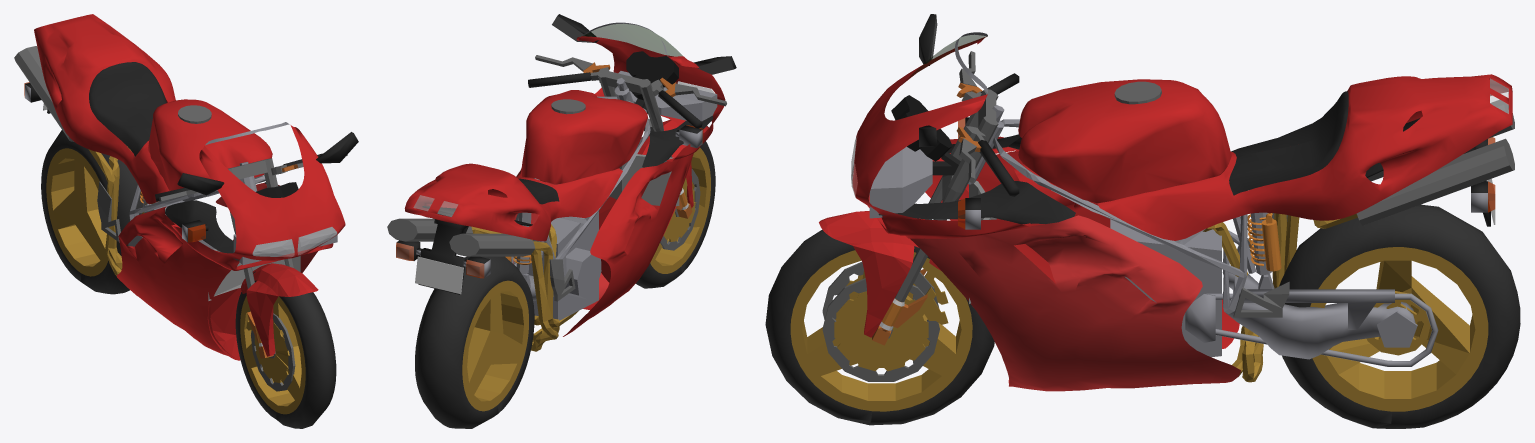
File: bike.obj
3 views of the same model, side by side, from view 1: azimuth 30°, elevation 25°; view 2: azimuth 150°, elevation 25°; view 3: azimuth 270°, elevation 25° (orthographic). The views are drawn at different scales.
Parts seen in each view (by area): view 1: carrd, carrd03, ducgb, carrd02, carrd01, duce01, ducw, ducw01, duce, carrd05, carrd04, duccro (+9 smaller); view 2: carrd, ducw01, carrd01, carrd03, duce01, ducgb, duccro, ducmo, carrd02, ducm5, ductbl, duce (+14 smaller); view 3: carrd03, carrd, carrd01, ducgb, ducw01, duce01, duce, ducw, carrd02, duccro, ducex, carrd05 (+15 smaller).
Boxes of the visible parts, box(x1,y1,x2,y2) form: carrd: box(34, 14, 175, 204); carrd03: box(116, 183, 317, 359); ducgb: box(25, 62, 358, 260); carrd02: box(171, 125, 345, 270); carrd01: box(147, 99, 272, 190); duce01: box(46, 148, 108, 276); ducw: box(235, 271, 336, 428); ducw01: box(41, 130, 143, 294); duce: box(240, 296, 305, 414); carrd05: box(241, 263, 318, 356); carrd04: box(207, 249, 300, 360); duccro: box(14, 46, 211, 141); carrd: box(404, 163, 622, 241); ducw01: box(415, 256, 534, 428); carrd01: box(521, 90, 647, 184); carrd03: box(513, 153, 693, 336); duce01: box(462, 280, 528, 411); ducgb: box(396, 14, 736, 294); duccro: box(387, 16, 733, 256); ducmo: box(527, 211, 601, 320); carrd02: box(576, 36, 725, 161); ducm5: box(535, 55, 726, 191); ductbl: box(471, 224, 578, 351); duce: box(650, 147, 710, 273); carrd03: box(910, 151, 1240, 391); carrd: box(1097, 74, 1512, 240); carrd01: box(1018, 79, 1231, 203); ducgb: box(878, 14, 1490, 366); ducw01: box(1279, 204, 1520, 428); duce01: box(1310, 247, 1488, 411); duce: box(790, 250, 972, 411); ducw: box(765, 229, 994, 425); carrd02: box(852, 36, 1030, 238); duccro: box(930, 16, 1514, 225); ducex: box(1226, 272, 1415, 359); carrd05: box(819, 211, 940, 337).
Size of the model in its own units: 2.46 by 3.46 by 6.22.
